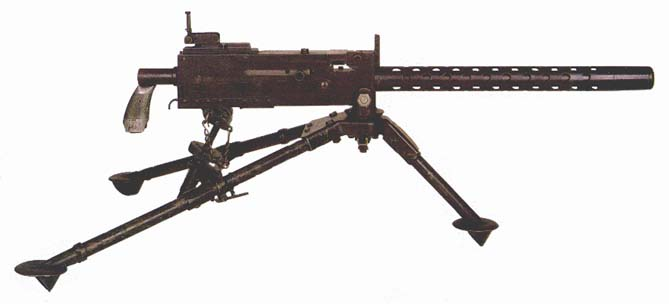rifle: (7, 14, 658, 283)
